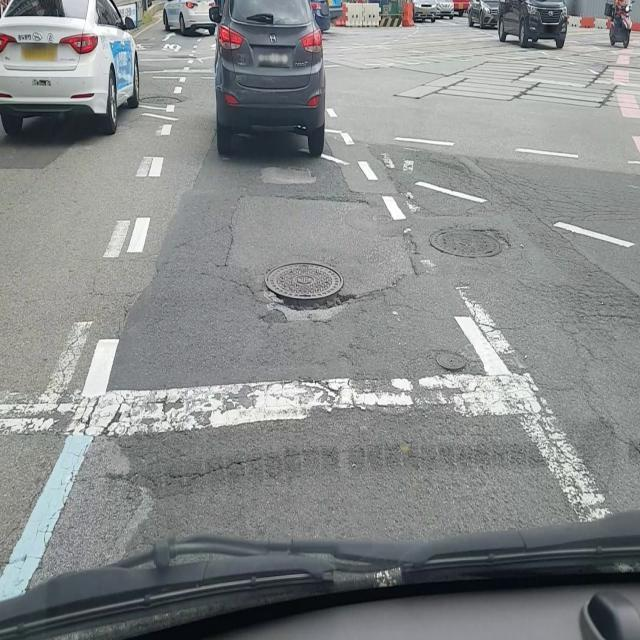pothole: (261, 260, 359, 314)
